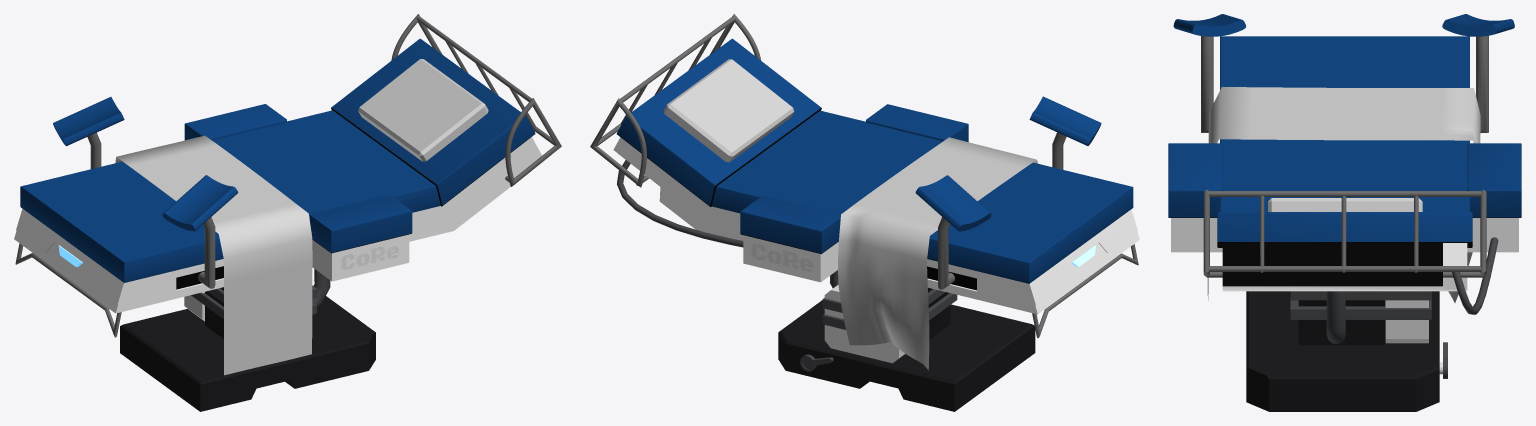
File: Lab_Bed.fbx
The picture shows the model from 3 angles, left to right: view 1: azimuth 30°, elevation 25°; view 2: azimuth 150°, elevation 25°; view 3: azimuth 270°, elevation 25°; orthographic projection. The views are drawn at different scales.
Visible parts, largest first — view 1: Box161, Plane010, Box159, Box162, Box164, Box163, Line021, Box165, Line022, Line027; view 2: Box161, Plane010, Box159, Box162, Box163 (×2), Box164, Box166, Line021, Freehand003_12k_001, Line022, Line027, Box168 (+1 smaller); view 3: Box161, Box159, Plane010, Box160, Line021, Box162, Box163 (×2), Box168, Line026, Line027, Box166, Box167 (+7 smaller).
Boxes of the visible parts, x1,y1,x2,y2 form: Box161: [14, 38, 542, 313]; Plane010: [115, 135, 312, 375]; Box159: [120, 296, 375, 411]; Box162: [358, 59, 488, 161]; Box164: [162, 175, 238, 231]; Box163: [53, 97, 124, 146]; Line021: [87, 132, 215, 288]; Box165: [505, 98, 561, 186]; Line022: [15, 243, 121, 337]; Line027: [416, 16, 531, 101]; Box161: [613, 38, 1139, 314]; Plane010: [838, 137, 1037, 370]; Box159: [778, 300, 1035, 411]; Box162: [663, 59, 794, 162]; Box163 (×2): [590, 98, 991, 231]; Box164: [1029, 96, 1101, 145]; Box166: [824, 285, 905, 363]; Line021: [938, 132, 1066, 289]; Freehand003_12k_001: [617, 160, 743, 247]; Line022: [1032, 244, 1138, 338]; Line027: [620, 16, 735, 102]; Box168: [822, 293, 957, 329]; Box161: [1168, 36, 1521, 291]; Box159: [1246, 291, 1439, 411]; Plane010: [1207, 87, 1480, 302]; Box160: [1298, 300, 1384, 345]; Line021: [1201, 35, 1488, 132]; Box162: [1268, 198, 1422, 211]; Box163 (×2): [1442, 14, 1514, 276]; Box168: [1290, 300, 1431, 319]; Line026: [1208, 266, 1481, 271]; Line027: [1208, 191, 1481, 196]; Box166: [1385, 300, 1428, 343]; Box167: [1290, 291, 1431, 300].
Bounding box in the file's own units: 237 × 128 × 137.
11 materials, 1 textured.
